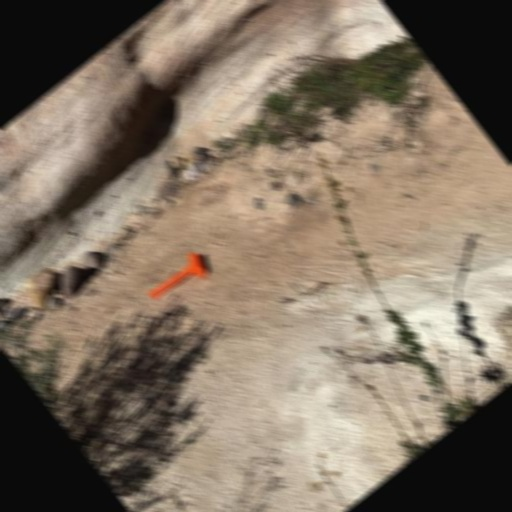bottle: (142, 245, 214, 312)
